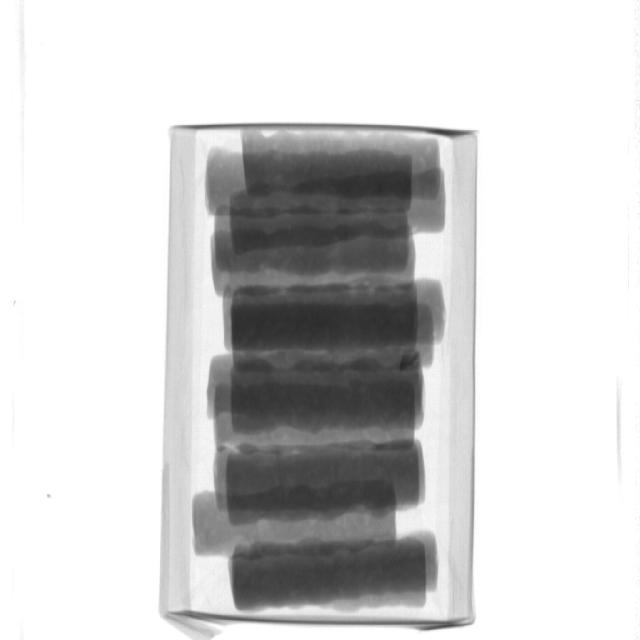ym: (399, 353, 420, 371)
